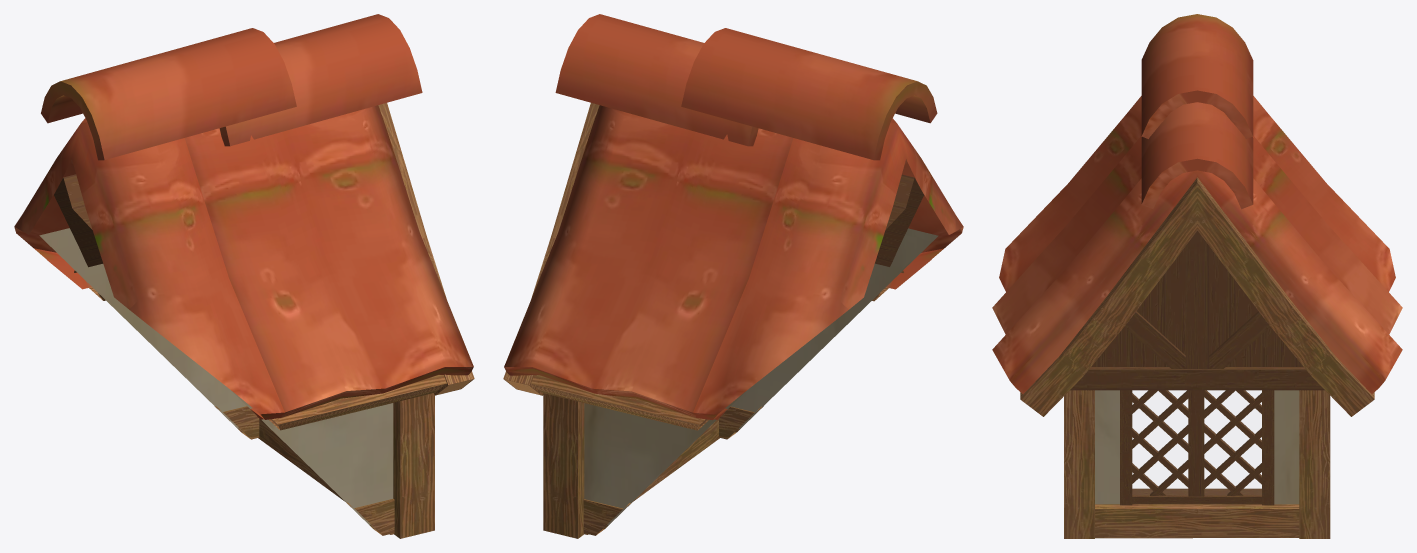
The model's file is Roof_Dormer_RoundTile.gltf.
3 renders of one model, left to right at view 1: azimuth 30°, elevation 25°; view 2: azimuth 150°, elevation 25°; view 3: azimuth 270°, elevation 25°, orthographic. The views are drawn at different scales.
Visible parts, largest first — view 1: Roof_Dormer_RoundTile; view 2: Roof_Dormer_RoundTile; view 3: Roof_Dormer_RoundTile.
Part boxes in pixels (x1,y1,x2,y2): Roof_Dormer_RoundTile: [14, 14, 474, 538]; Roof_Dormer_RoundTile: [503, 14, 963, 538]; Roof_Dormer_RoundTile: [992, 14, 1402, 538].
Bounding box in the file's own units: 1.97 × 2.67 × 2.44.
4 materials, 3 textured.
